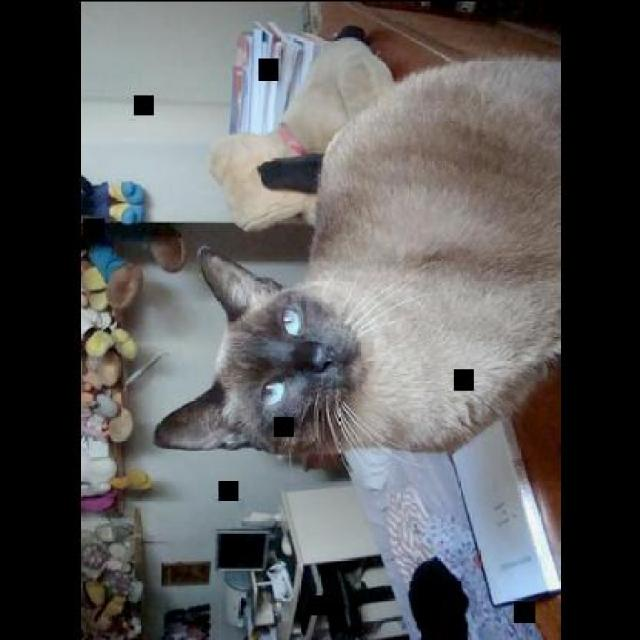unauthorized: (151, 49, 560, 468)
